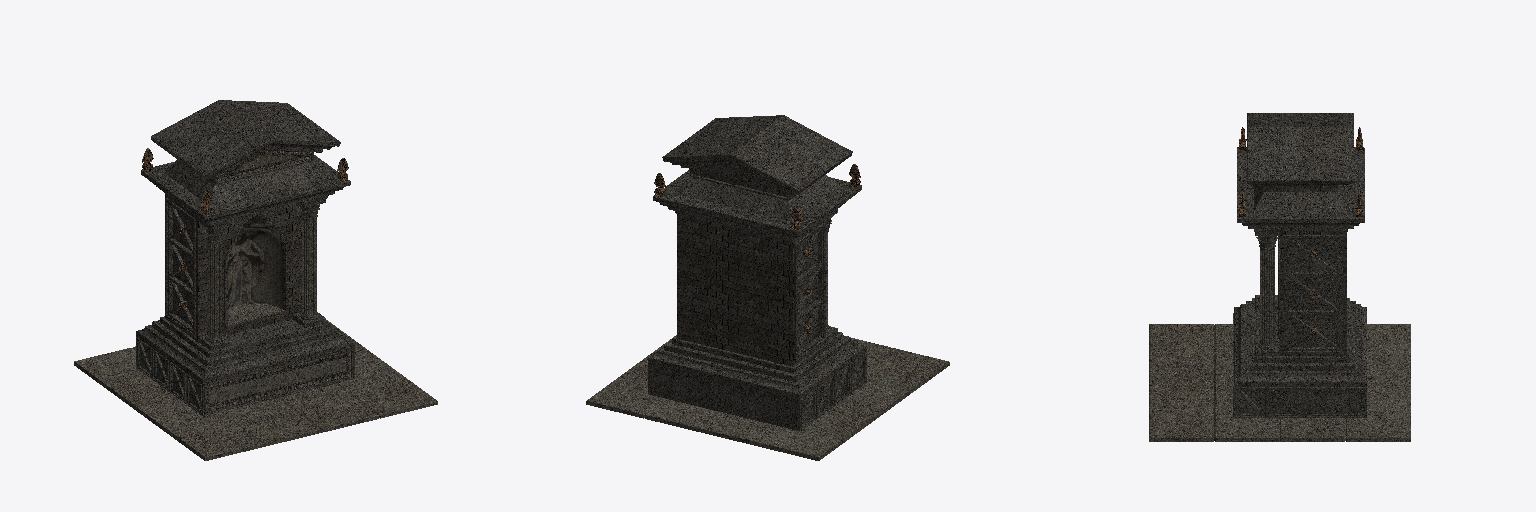
The picture shows the model from 3 angles: view 1: azimuth 30°, elevation 25°; view 2: azimuth 150°, elevation 25°; view 3: azimuth 270°, elevation 25°; orthographic projection.
Parts seen in each view (by area): view 1: RTTomb; view 2: RTTomb; view 3: RTTomb.
Part boxes in pixels (x1,y1,x2,y2): RTTomb: (74,100,437,460); RTTomb: (586,115,949,460); RTTomb: (1149,113,1410,441).
Size of the model in its own units: 0.9656 by 1.02 by 0.9421.
14 materials, 7 textured.